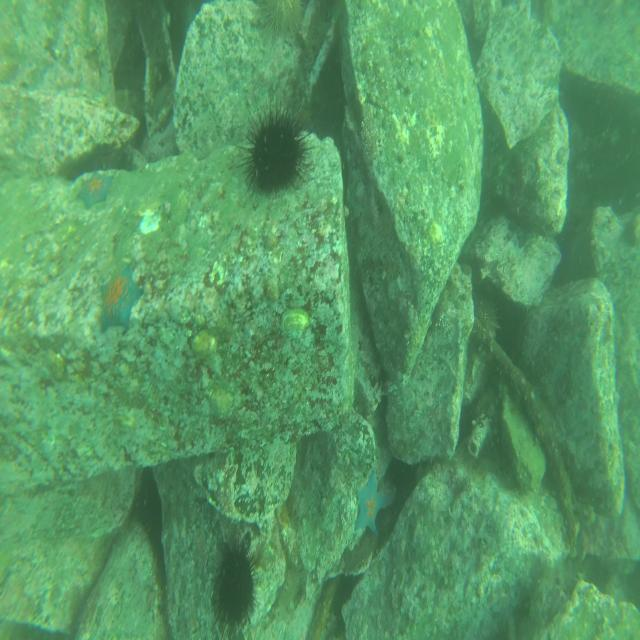echinus: (243, 111, 304, 196), (215, 544, 254, 626)
starfish: (96, 267, 142, 334), (354, 471, 391, 540), (77, 170, 110, 212)
